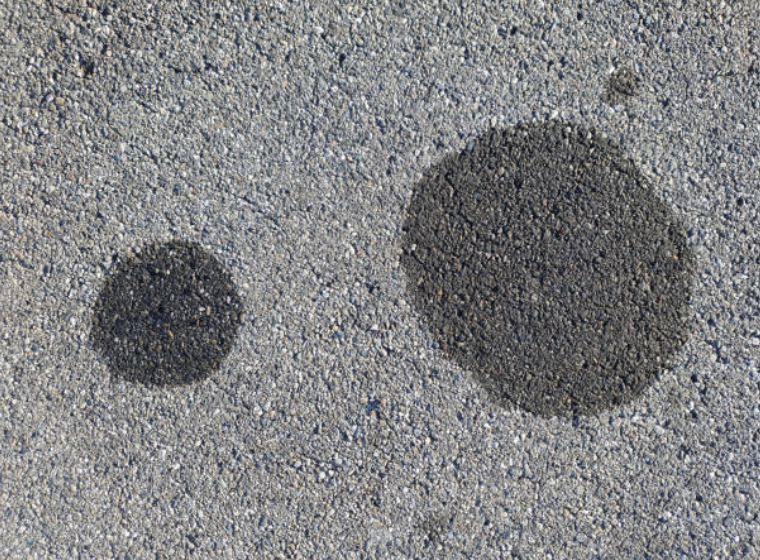oil: (201, 59, 346, 212), (45, 119, 123, 195), (301, 33, 321, 55)
